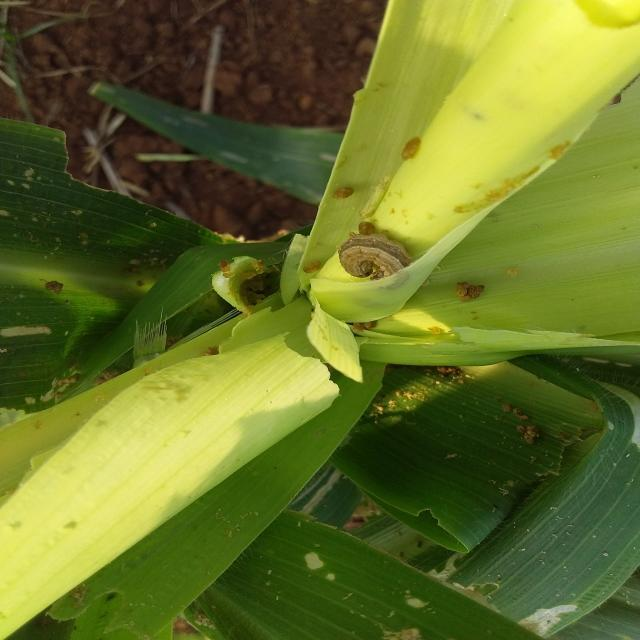fall-armyworm-frass: (0, 0, 640, 640)
fall-armyworm-larva: (0, 0, 640, 640)
fall-armyworm-larval-damage: (0, 0, 640, 640)
maize-streak-disease: (0, 0, 640, 640)
